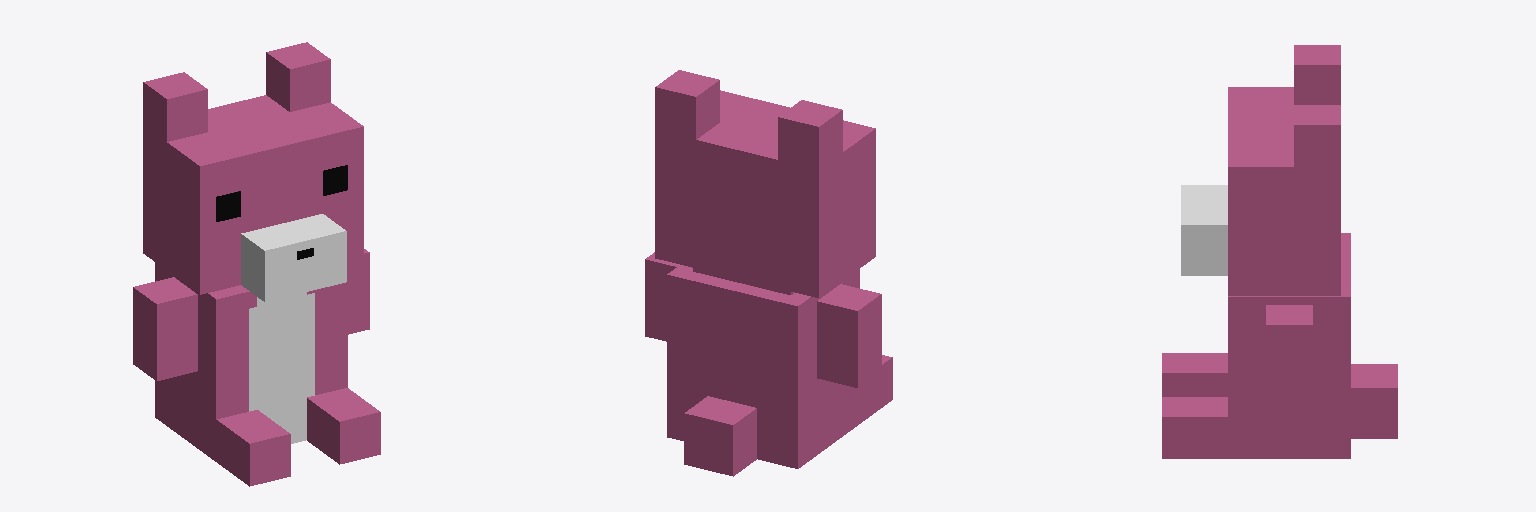
3 renders of one model, left to right at view 1: azimuth 30°, elevation 25°; view 2: azimuth 150°, elevation 25°; view 3: azimuth 270°, elevation 25°, orthographic.
Visible parts, largest first — view 1: stage_3_beardoll4; view 2: stage_3_beardoll4; view 3: stage_3_beardoll4.
Part boxes in pixels (x1,y1,x2,y2): stage_3_beardoll4: (133, 42, 380, 486); stage_3_beardoll4: (645, 70, 892, 476); stage_3_beardoll4: (1162, 45, 1397, 458).
Bounding box in the file's own units: 26 × 40 × 25.
1 materials, 1 textured.